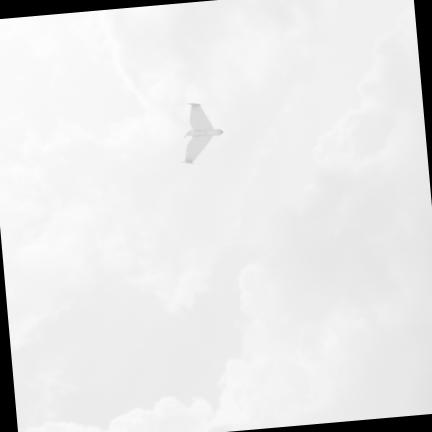Shahed: (185, 103, 222, 163)
